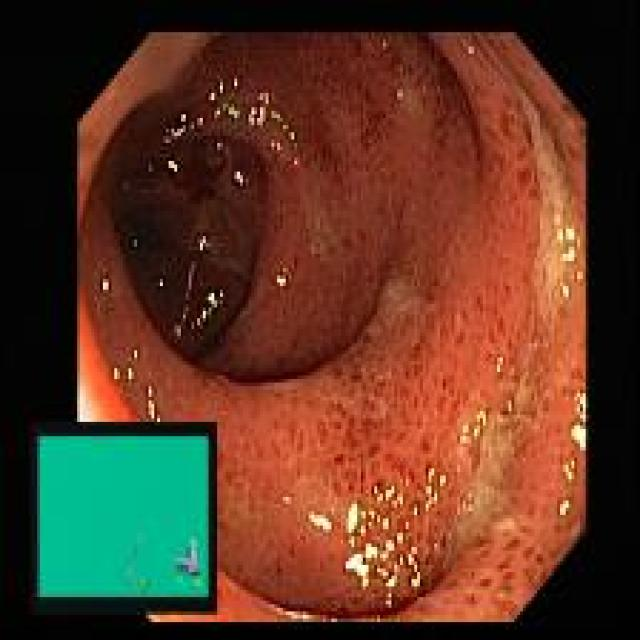ulcerative-colitis: (80, 33, 585, 617)
